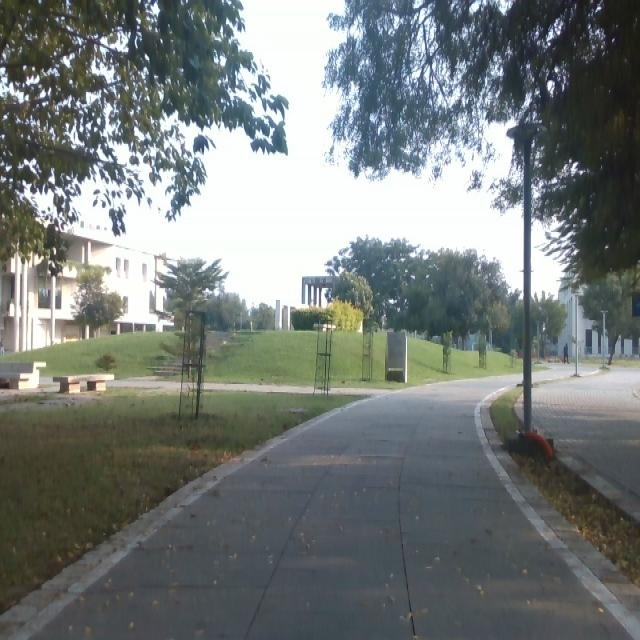lane: (31, 365, 635, 640)
